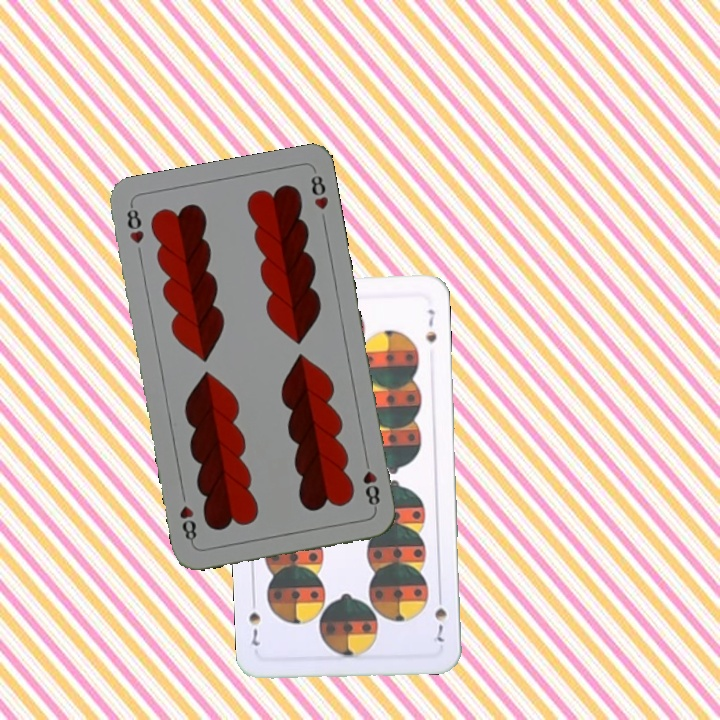H8: (359, 454, 382, 512), (122, 201, 147, 247)
S7: (429, 589, 449, 647)
